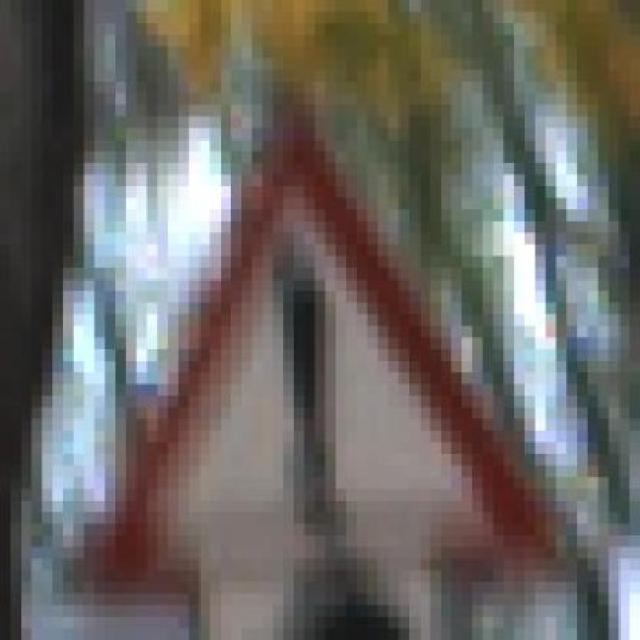Attention Please-: (63, 93, 577, 593)
